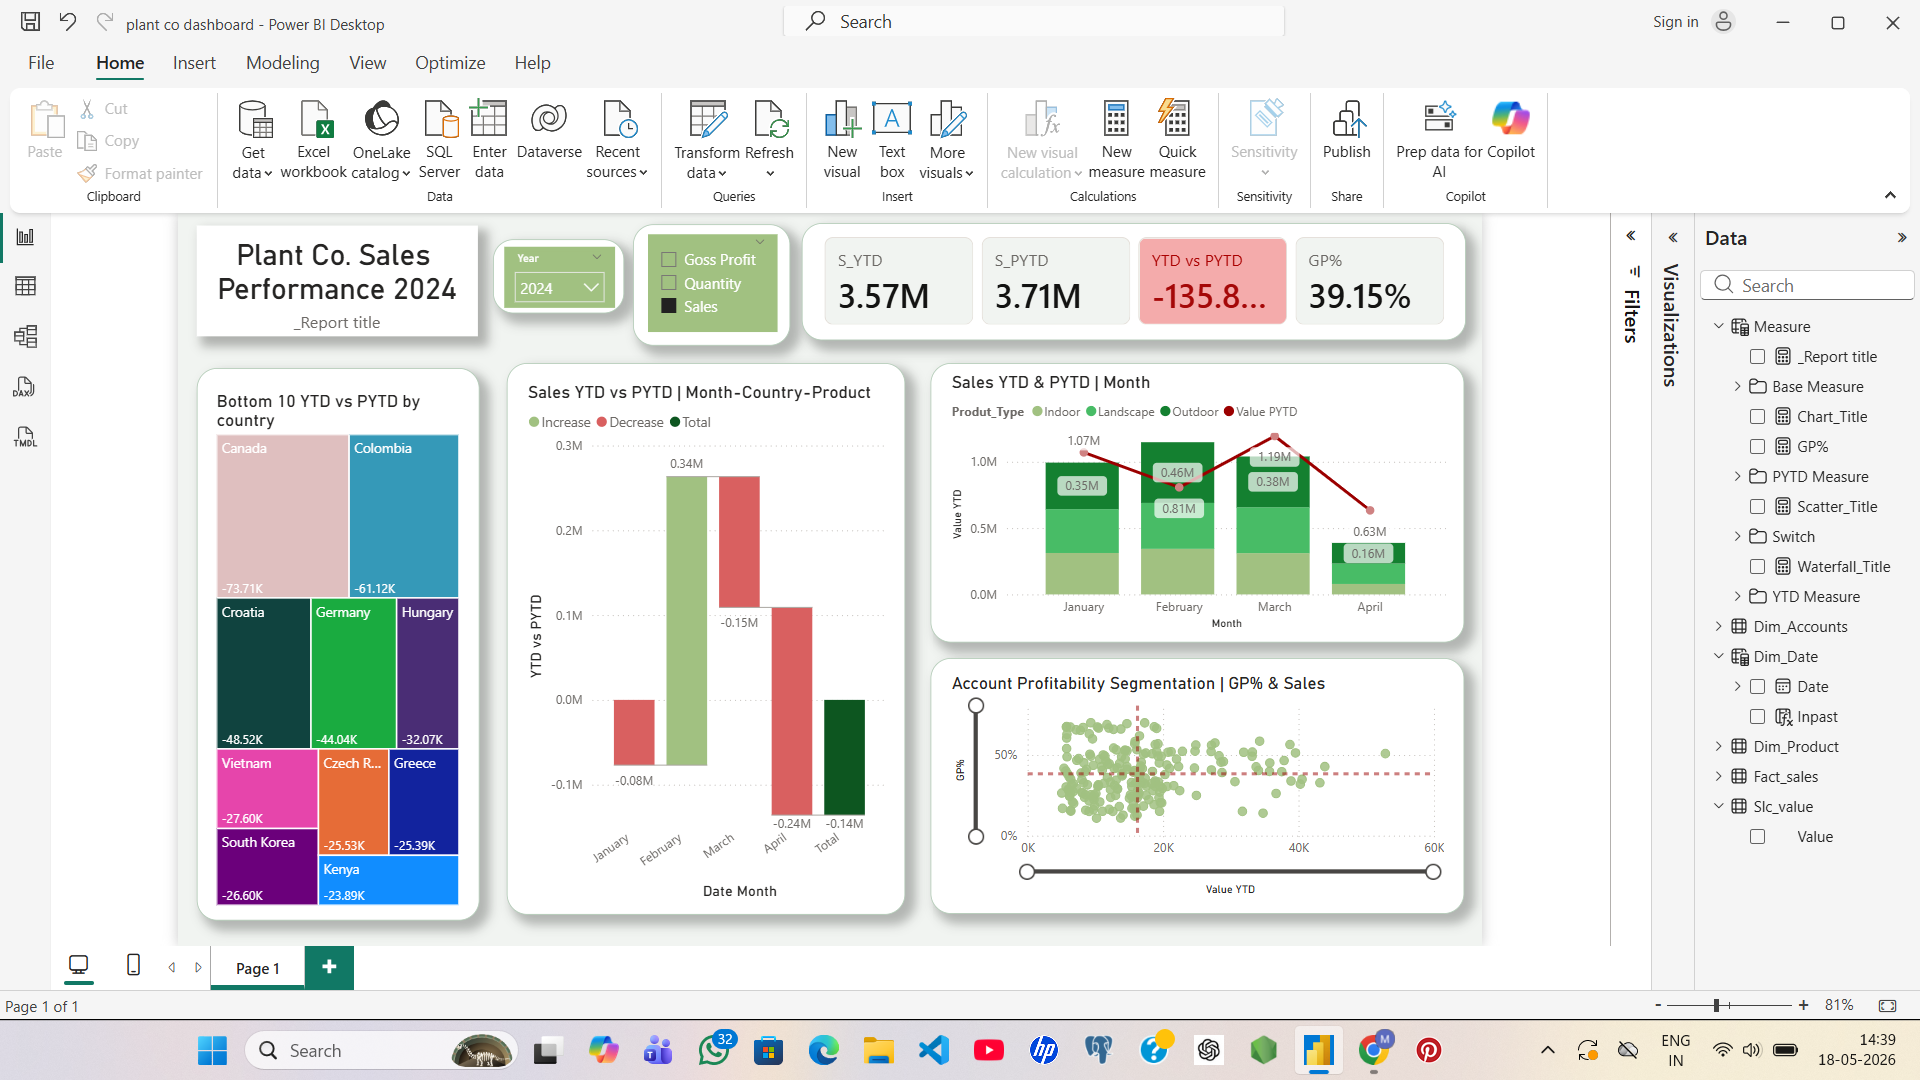

What the dashboard file says about the page in this screenshot:
{"tool":"powerbi","page":{"name":"Page 1","canvas":[1280,720],"ordinal":0},"visuals":[{"type":"shape","box":[612,9.6,651.8,115.3],"z":0,"group":"g6"},{"type":"card","fields":{"Values":["Measure._Report title"]},"box":[17.8,12.3,275.8,108.4],"z":0},{"type":"cardVisual","fields":{"Data":["Measure.S_YTD","Measure.S_PYTD","Measure.YTD vs PYTD","Measure.GP%"]},"box":[625.4,15.1,626.3,104.3],"z":1000,"group":"g6"},{"type":"group","id":"g1","title":"Group 1","box":[308.7,26.1,129,72.7],"z":1000},{"type":"group","id":"g2","title":"Group 3","box":[17.8,11,583.2,682],"z":2000},{"type":"shape","box":[446,11,154.8,119.4],"z":2000,"group":"g7"},{"type":"slicer","fields":{"Values":["Slc_value.Value"]},"box":[460.3,20.6,127.5,96.1],"z":3000,"group":"g7"},{"type":"group","id":"g3","title":"Group 4","box":[322.9,147.1,391.4,541.4],"z":3000},{"type":"shape","box":[322.9,147.1,391.4,541.4],"z":4000,"group":"g3"},{"type":"group","id":"g4","title":"Group 5","box":[738.6,147.1,524.3,274.3],"z":4000},{"type":"shape","box":[17.8,151.8,278,542],"z":5000,"group":"g2"},{"type":"group","id":"g5","title":"Group 6","box":[738.6,437.1,524.3,251.4],"z":5000},{"type":"group","id":"g6","title":"Group 7","box":[612,9.6,651.8,115.3],"z":6000},{"type":"waterfallChart","fields":{"Category":["Dim_Date.Date.Variation.Date Hierarchy.Month","Dim_Accounts.country","Dim_Product.Produt_Type","Dim_Product.Product_Name"],"Y":["Measure.YTD vs PYTD"]},"box":[338.6,165.7,362.9,512.9],"z":6000,"group":"g3"},{"type":"treemap","fields":{"Group":["Dim_Accounts.country"],"Values":["Measure.YTD vs PYTD"]},"box":[32.1,173.7,247.9,510.5],"z":7000,"group":"g2"},{"type":"shape","box":[738.6,147.1,524.3,274.3],"z":8000,"group":"g4"},{"type":"lineStackedColumnComboChart","fields":{"Y":["Measure.S_YTD"],"Category":["Dim_Date.Date.Variation.Date Hierarchy.Quarter","Dim_Date.Date.Variation.Date Hierarchy.Month"],"Y2":["Measure.S_PYTD"],"Series":["Dim_Product.Produt_Type"]},"box":[754.3,155.7,495.7,258.6],"z":9000,"group":"g4"},{"type":"shape","box":[308.7,26.1,129,72.7],"z":10000,"group":"g1"},{"type":"slicer","fields":{"Values":["Dim_Date.Date.Variation.Date Hierarchy.Year","Dim_Date.Date"]},"box":[320.2,33,108.6,60.4],"z":11000,"group":"g1"},{"type":"shape","box":[738.6,437.1,524.3,251.4],"z":12000,"group":"g5"},{"type":"scatterChart","fields":{"Category":["Dim_Accounts.Account"],"Y":["Measure.GP%"],"X":["Measure.S_YTD"]},"box":[754.3,451.4,492.9,222.9],"z":13000,"group":"g5"},{"type":"group","id":"g7","title":"Group 2","box":[446,11,154.8,119.4],"z":14002,"group":"g2"}]}

Visuals, with their boxes on the page's 1280x720 design canvas (x1, y1, x2, y2). These are canvas units, not pixel positions in the 1920x1080 screenshot, which may show the page scaled, cropped or inside an application window:
shape: (x1=612, y1=10, x2=1264, y2=125)
card - Measure._Report title: (x1=18, y1=12, x2=294, y2=121)
cardVisual - Measure.S_YTD x Measure.S_PYTD: (x1=625, y1=15, x2=1252, y2=119)
"Group 1" group: (x1=309, y1=26, x2=438, y2=99)
"Group 3" group: (x1=18, y1=11, x2=601, y2=693)
shape: (x1=446, y1=11, x2=601, y2=130)
slicer - Slc_value.Value: (x1=460, y1=21, x2=588, y2=117)
"Group 4" group: (x1=323, y1=147, x2=714, y2=688)
shape: (x1=323, y1=147, x2=714, y2=688)
"Group 5" group: (x1=739, y1=147, x2=1263, y2=421)
shape: (x1=18, y1=152, x2=296, y2=694)
"Group 6" group: (x1=739, y1=437, x2=1263, y2=688)
"Group 7" group: (x1=612, y1=10, x2=1264, y2=125)
waterfallChart - Dim_Date.Date.Variation.Date Hierarchy.Month x Dim_Accounts.country: (x1=339, y1=166, x2=702, y2=679)
treemap - Dim_Accounts.country x Measure.YTD vs PYTD: (x1=32, y1=174, x2=280, y2=684)
shape: (x1=739, y1=147, x2=1263, y2=421)
lineStackedColumnComboChart - Measure.S_YTD x Dim_Date.Date.Variation.Date Hierarchy.Quarter: (x1=754, y1=156, x2=1250, y2=414)
shape: (x1=309, y1=26, x2=438, y2=99)
slicer - Dim_Date.Date.Variation.Date Hierarchy.Year x Dim_Date.Date: (x1=320, y1=33, x2=429, y2=93)
shape: (x1=739, y1=437, x2=1263, y2=688)
scatterChart - Dim_Accounts.Account x Measure.GP%: (x1=754, y1=451, x2=1247, y2=674)
"Group 2" group: (x1=446, y1=11, x2=601, y2=130)
